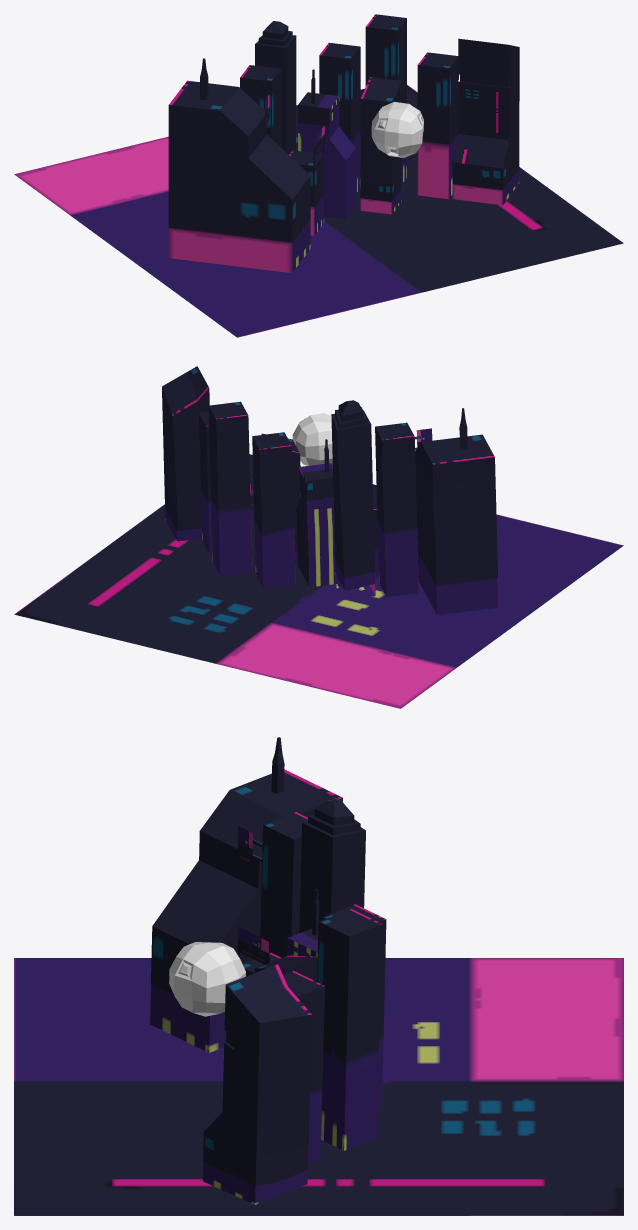
The model's file is dios2.glb.
The picture shows the model from 3 angles, top to bottom: view 1: azimuth 30°, elevation 25°; view 2: azimuth 150°, elevation 25°; view 3: azimuth 270°, elevation 25°; orthographic projection. The views are drawn at different scales.
Visible parts, largest first — view 1: Cube, Cube.002; view 2: Cube, Cube.002; view 3: Cube, Cube.002.
Boxes of the visible parts, <box> form: Cube: <box>14,14,623,337</box>; Cube.002: <box>371,102,423,157</box>; Cube: <box>14,366,623,708</box>; Cube.002: <box>292,413,332,465</box>; Cube: <box>14,737,623,1215</box>; Cube.002: <box>169,942,245,1016</box>.
Bounding box in the file's own units: 26.96 × 12.91 × 26.96.
Materials: 3 (1 with a texture image).
